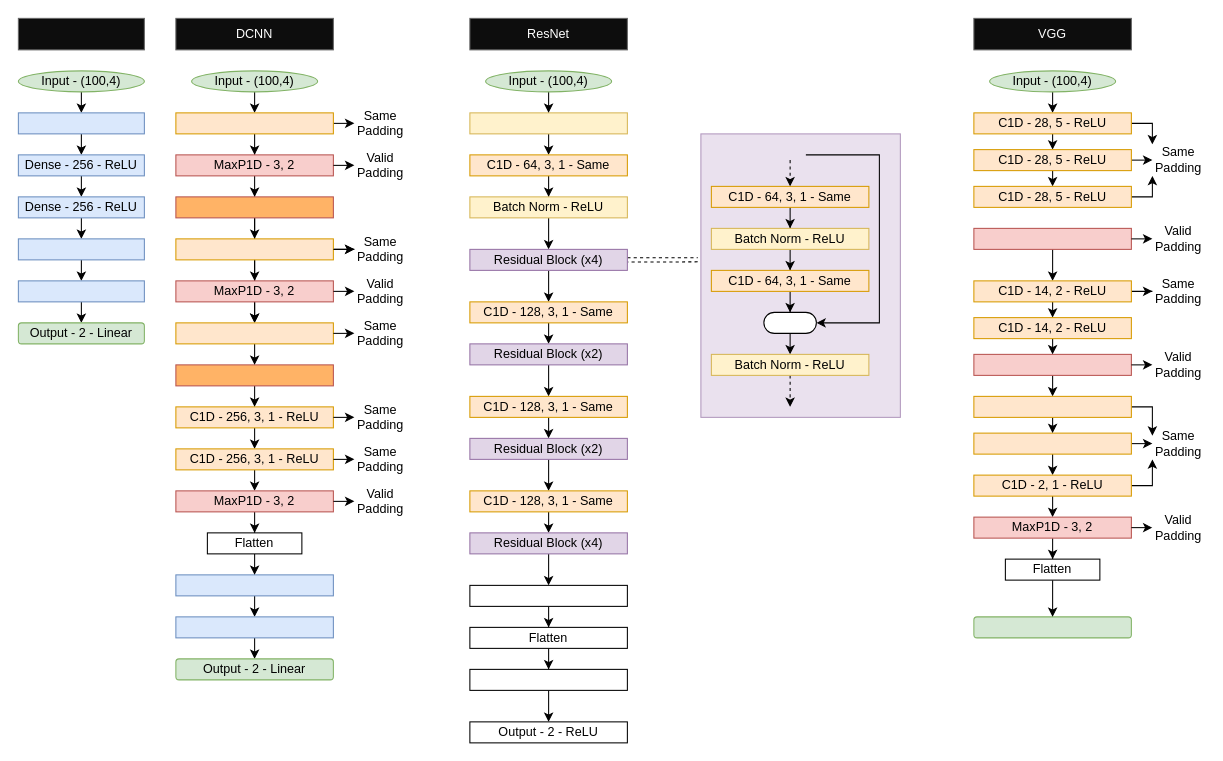
The diagram is 1223 pixels wide and 761 high, and some of its shapes have lost their labels. The centre of each missing label's shape, as x and y in pixels:
"Add" goes at pixel 789 322.
"Average Pooling 1D - 3" goes at pixel 548 595.
"Batch Normalization" goes at pixel 548 123.
"C1D - 256, 1 - ReLU" goes at pixel 1052 443.
"C1D - 256, 5, 1 - ReLU" goes at pixel 254 249.
"C1D - 384, 3, 1 - ReLU" goes at pixel 254 333.
"C1D - 512, 1 - ReLU" goes at pixel 1052 406.
"C1D - 96, 5, 4 - ReLU" goes at pixel 254 123.
"Dense - 12 - ReLU" goes at pixel 80 291.
"Dense - 128- ReLU" goes at pixel 254 585.
"Dense - 32 - ReLU" goes at pixel 548 679.
"Dense - 512 - ReLU" goes at pixel 80 123.
"Dense - 64- ReLU" goes at pixel 254 627.
"Dense - 96 - ReLU" goes at pixel 80 249.
"Drop - 0.3" goes at pixel 254 207.
"Drop - 0.4" goes at pixel 254 375.
"FFNN - 5" goes at pixel 80 33.
"MaxP1D - 14" goes at pixel 1052 238.
"MaxP1D - 7" goes at pixel 1052 364.
"Output" goes at pixel 1052 627.
